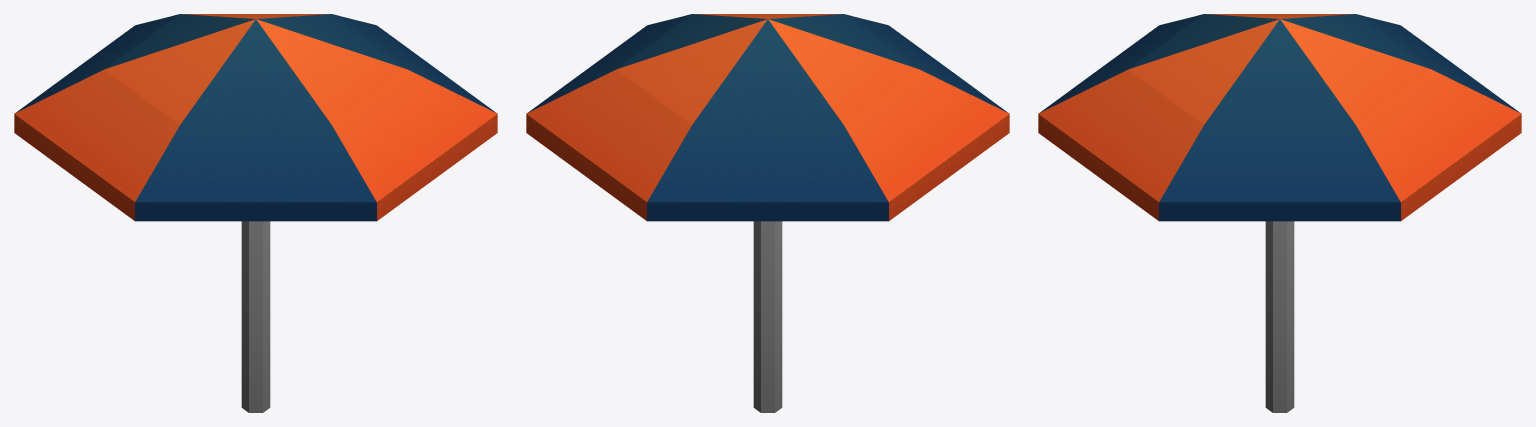
Rendered from sombrillaPlaya1.fbx.
The picture shows the model from 3 angles, left to right: view 1: azimuth 30°, elevation 25°; view 2: azimuth 150°, elevation 25°; view 3: azimuth 270°, elevation 25°; orthographic projection.
Parts seen in each view (by area): view 1: sombrillaPlaya1; view 2: sombrillaPlaya1; view 3: sombrillaPlaya1.
Boxes of the visible parts, x1=… form: sombrillaPlaya1: x1=14, y1=14, x2=497, y2=412; sombrillaPlaya1: x1=526, y1=14, x2=1009, y2=412; sombrillaPlaya1: x1=1038, y1=14, x2=1521, y2=412.
Size of the model in its own units: 109 by 112 by 126.
1 material, 1 textured.
